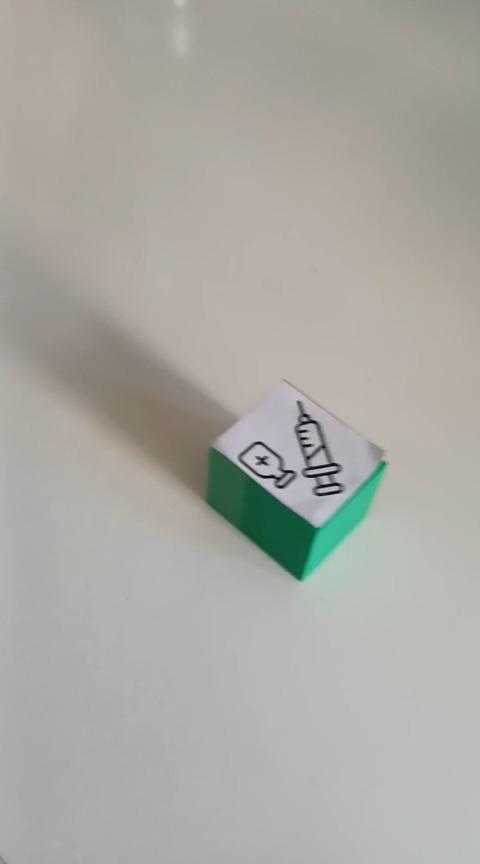antiseptic cream: (204, 377, 389, 581)
